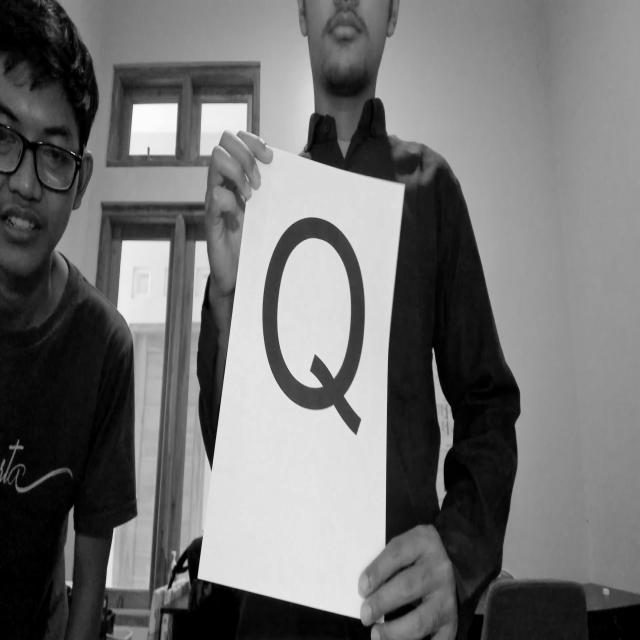q: (248, 212, 392, 459)
